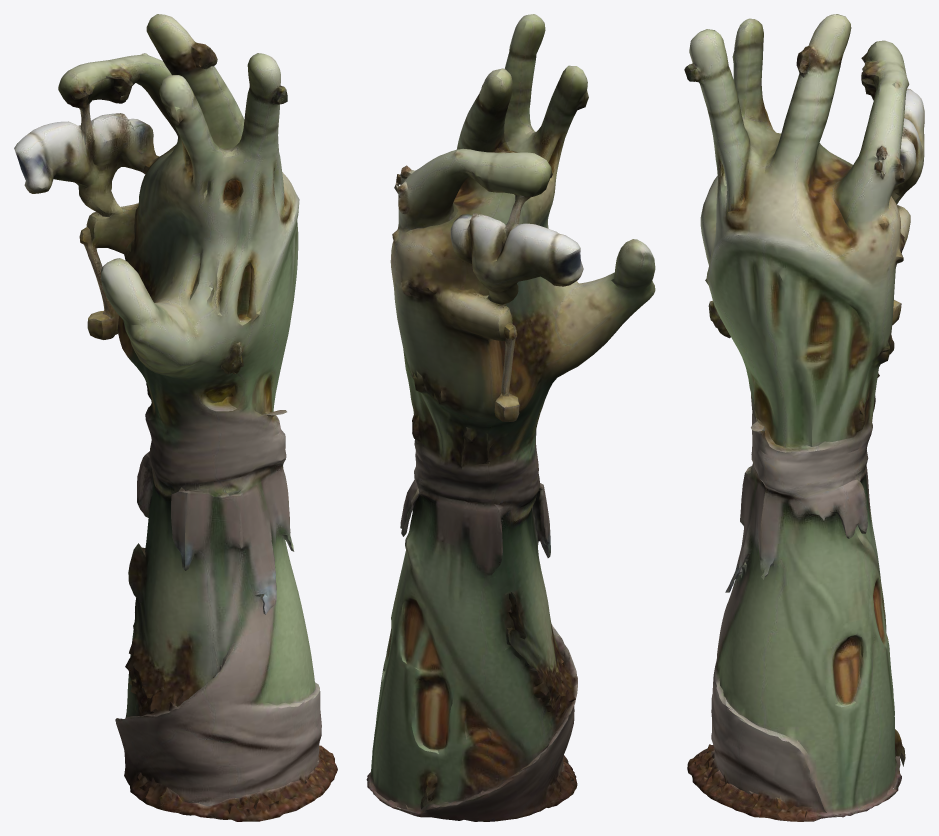
Rendered from zombiearm.glb.
The picture shows the model from 3 angles, left to right: view 1: azimuth 30°, elevation 25°; view 2: azimuth 150°, elevation 25°; view 3: azimuth 270°, elevation 25°; orthographic projection. The views are drawn at different scales.
Visible parts, largest first — view 1: mesh; view 2: mesh; view 3: mesh.
Boxes of the visible parts, x1=… form: mesh: x1=14, y1=14, x2=337, y2=821; mesh: x1=366, y1=14, x2=655, y2=821; mesh: x1=684, y1=14, x2=924, y2=821.
Bounding box in the file's own units: 0.356 × 1 × 0.2945.
Materials: 1 (1 with a texture image).
